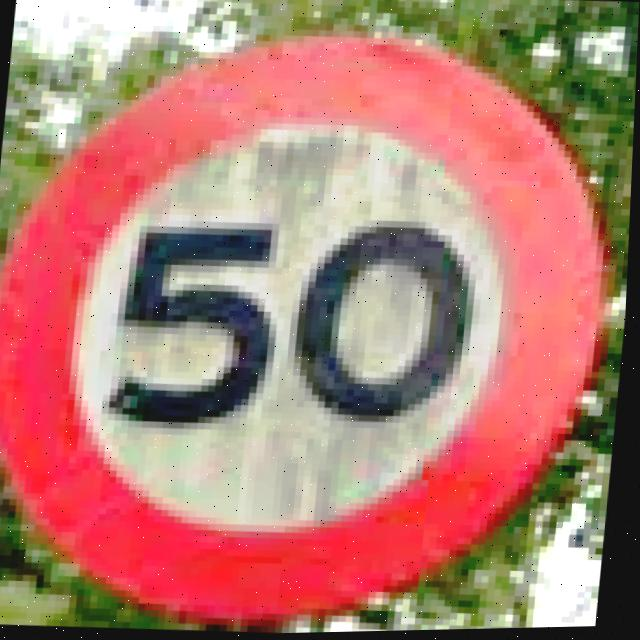max50: (0, 4, 632, 640)
